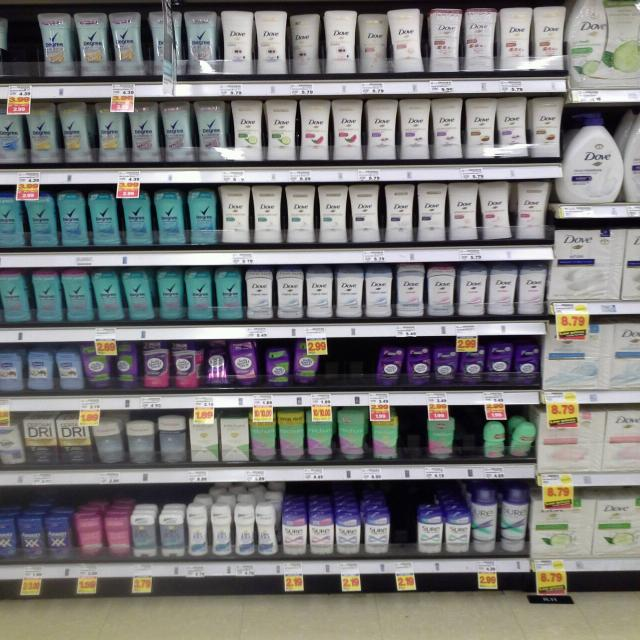void: (322, 341, 372, 411), (0, 4, 36, 99), (399, 488, 418, 584)
